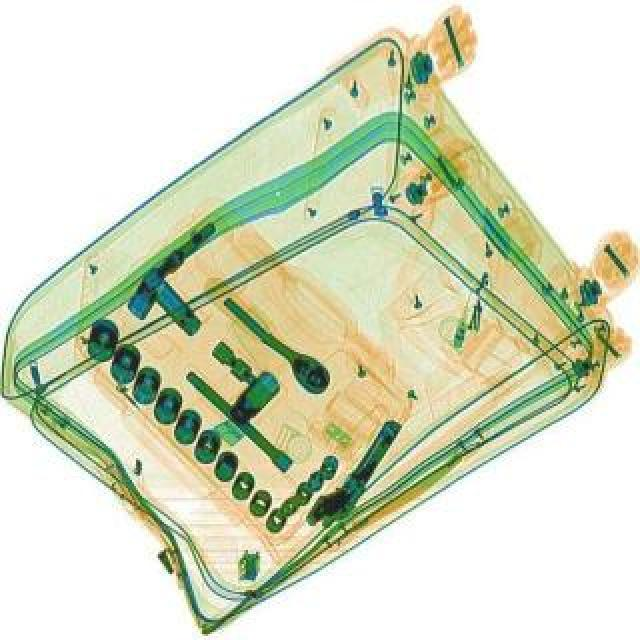gun: (302, 408, 406, 538)
